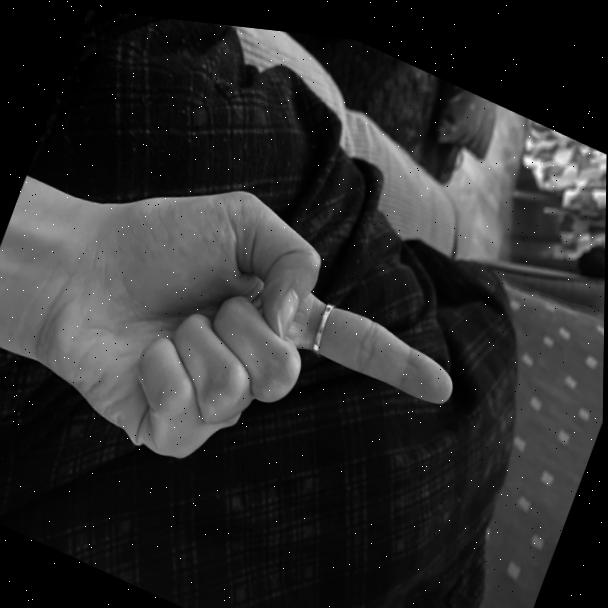one: (17, 108, 493, 569)
